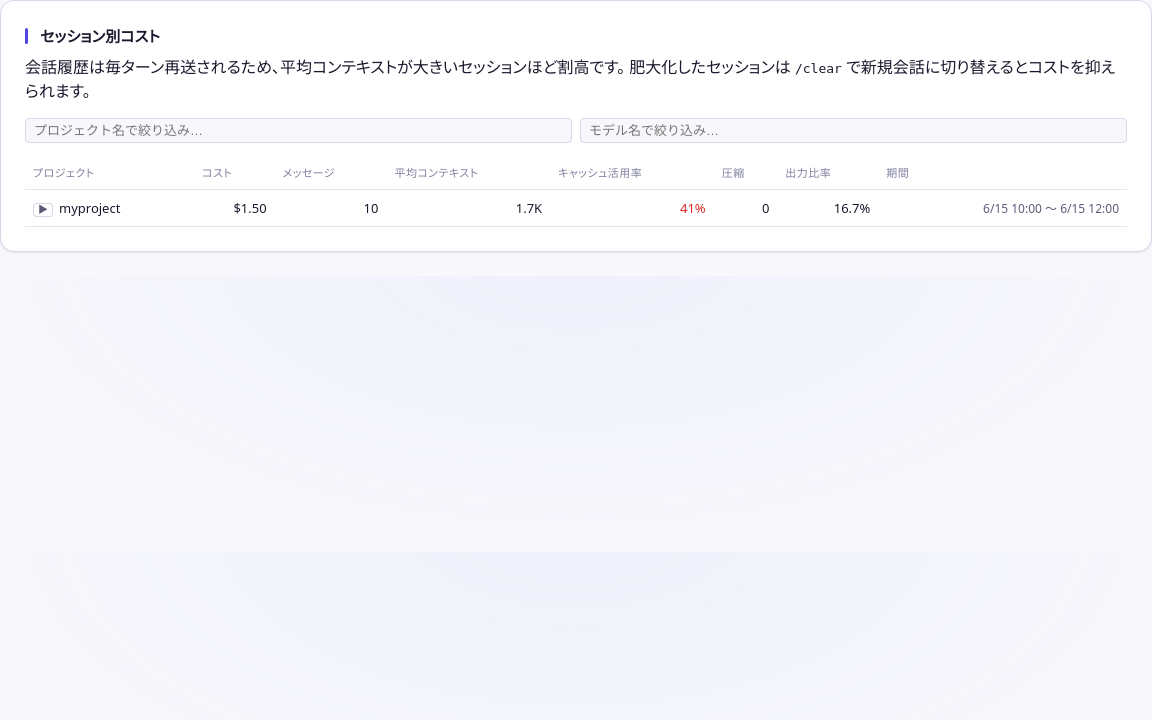
it: SessionBreakdown › fetchSessionTurns が成功するとターンデータが表示される
The image size is (1152, 720).
What coordinates should you click on to do the following:
click the button named "詳細を展開"
I would click on:
 (43, 210)
Its box is [33, 203, 53, 217].
(page scrolled)
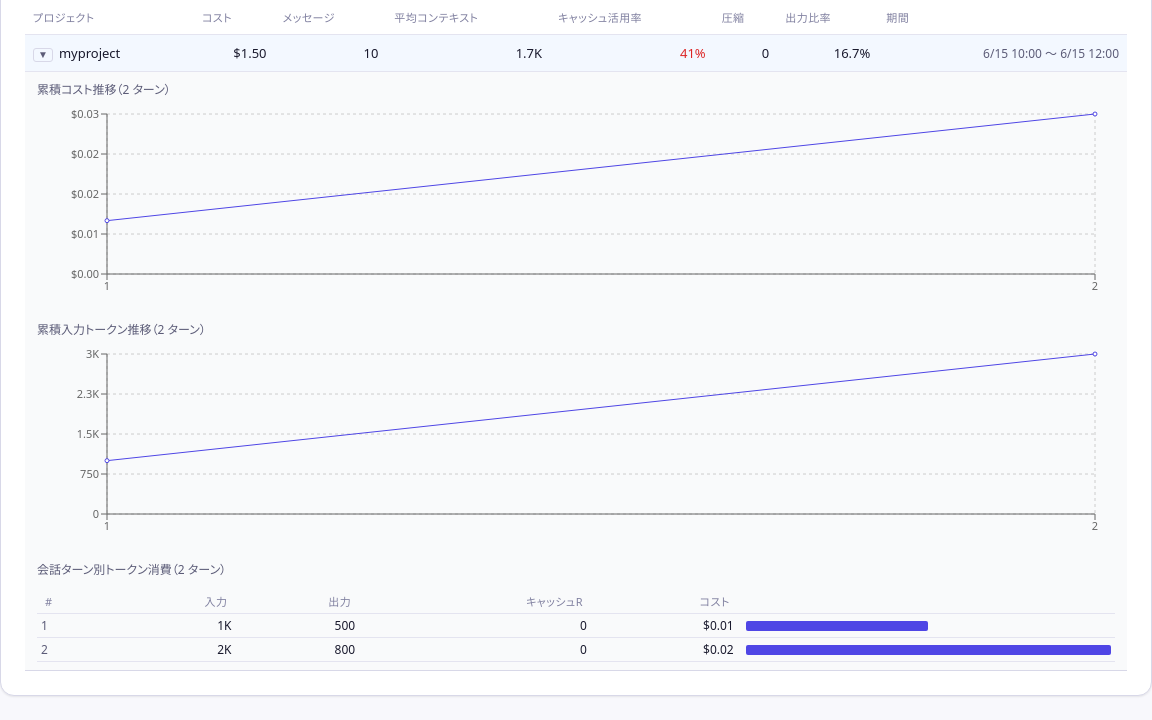
Expected: the text "会話ターン別トークン消費（2 ターン）" is shown, [37, 561, 226, 578]
